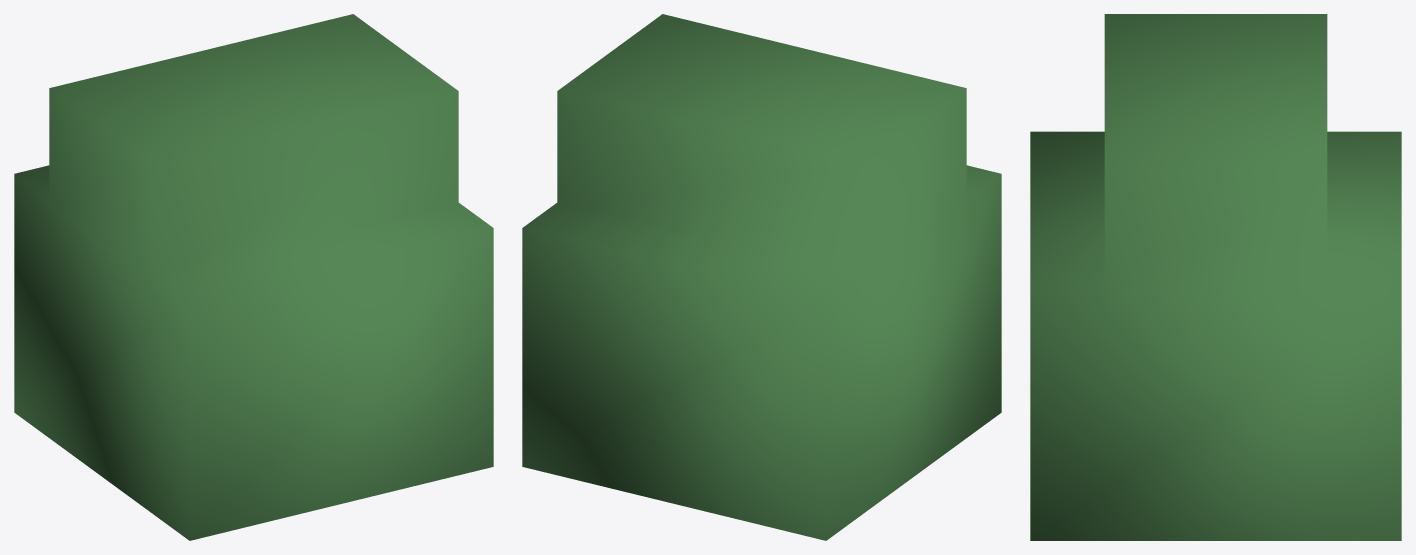
File: forester.obj
The picture shows the model from 3 angles, left to right: view 1: azimuth 30°, elevation 25°; view 2: azimuth 150°, elevation 25°; view 3: azimuth 270°, elevation 25°; orthographic projection. The views are drawn at different scales.
Parts seen in each view (by area): view 1: building; view 2: building; view 3: building.
Boxes of the visible parts, bbox=[...] form: building: bbox=[14, 14, 493, 540]; building: bbox=[522, 14, 1001, 540]; building: bbox=[1030, 14, 1401, 540].
Size of the model in its own units: 2 by 2.2 by 2.
